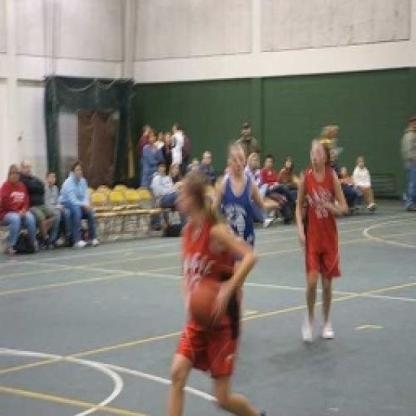basketball: (188, 274, 228, 330)
